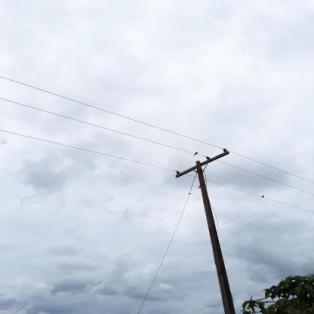Poste: (192, 158, 242, 314)
